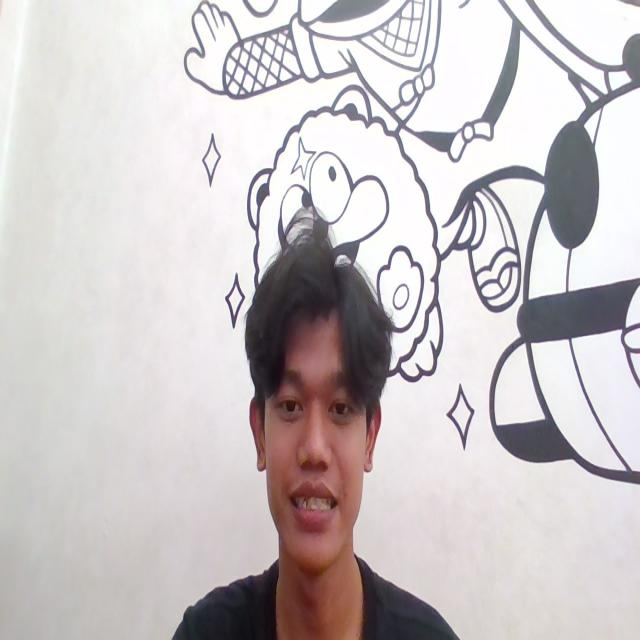sem_oculos: (257, 355, 380, 432)
